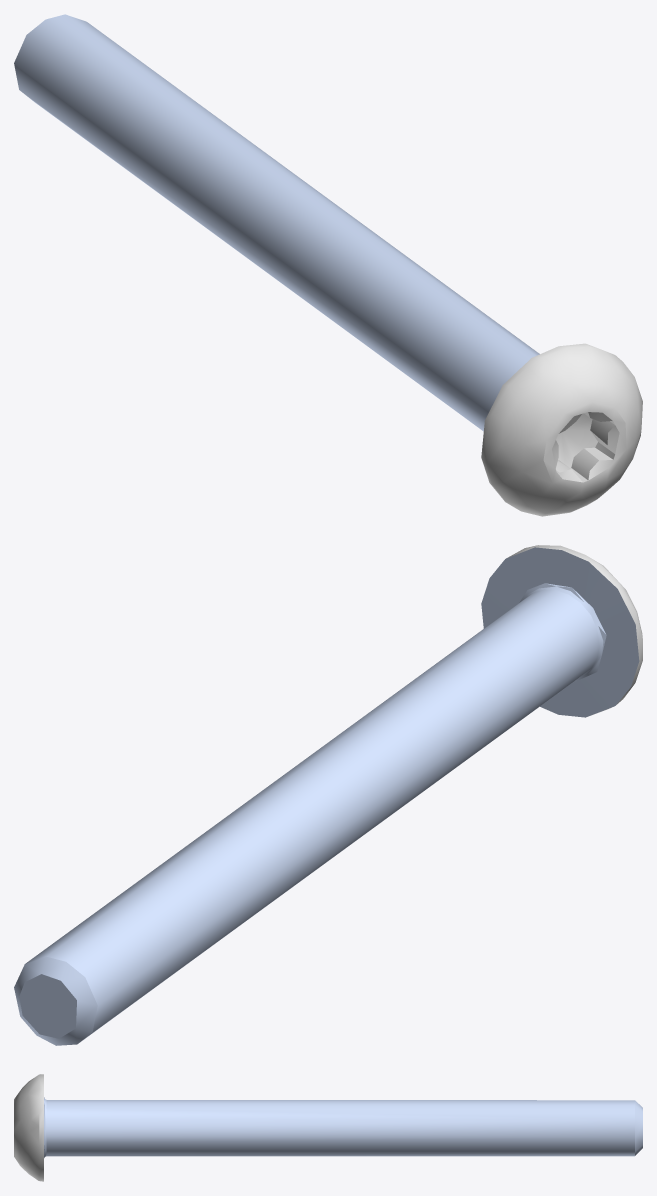
The model's file is Colored__8-32_x_1_750_Star_Drive_Screw__276-4999__001.glb.
3 renders of one model, top to bottom at view 1: azimuth 30°, elevation 25°; view 2: azimuth 150°, elevation 25°; view 3: azimuth 270°, elevation 25°, orthographic. The views are drawn at different scales.
Visible parts, largest first — view 1: Colored #8-32 x 1.750 Star Drive Screw (276-4999).001; view 2: Colored #8-32 x 1.750 Star Drive Screw (276-4999).001; view 3: Colored #8-32 x 1.750 Star Drive Screw (276-4999).001.
Boxes of the visible parts, x1,y1,x2,y2 form: Colored #8-32 x 1.750 Star Drive Screw (276-4999).001: (14, 14, 642, 516); Colored #8-32 x 1.750 Star Drive Screw (276-4999).001: (14, 545, 642, 1045); Colored #8-32 x 1.750 Star Drive Screw (276-4999).001: (14, 1074, 642, 1181).
Size of the model in its own units: 0.3123 by 0.3131 by 1.84.
